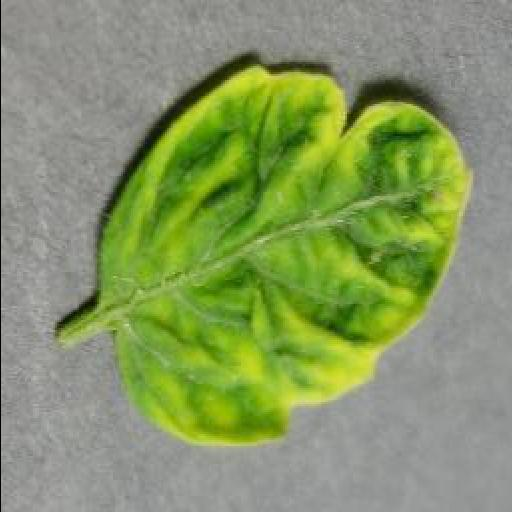disease_tomato: (92, 62, 474, 446)
